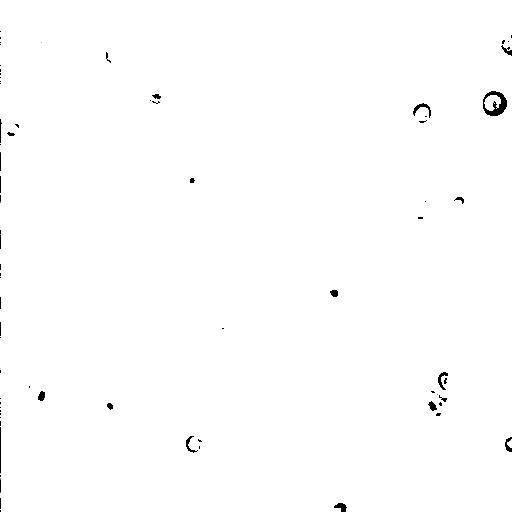micro-algae: (415, 301, 510, 395), (148, 59, 233, 145), (284, 208, 363, 287), (22, 449, 98, 512), (230, 123, 298, 192), (131, 7, 187, 65), (477, 441, 511, 511), (417, 457, 461, 498), (333, 62, 374, 105), (226, 258, 268, 298), (21, 0, 85, 26), (372, 5, 408, 43), (479, 323, 511, 365), (53, 422, 86, 454), (52, 137, 83, 170), (414, 388, 445, 420), (114, 332, 145, 363), (404, 200, 436, 229), (481, 90, 509, 118), (375, 230, 404, 257), (27, 379, 54, 408), (99, 390, 125, 418), (0, 114, 27, 140), (177, 167, 203, 193), (322, 280, 349, 305), (26, 37, 52, 56), (412, 103, 433, 125), (106, 45, 124, 66), (438, 371, 456, 391), (499, 33, 512, 58), (185, 435, 203, 452), (450, 196, 466, 211), (329, 502, 348, 512), (2, 491, 11, 509), (505, 435, 511, 453)
